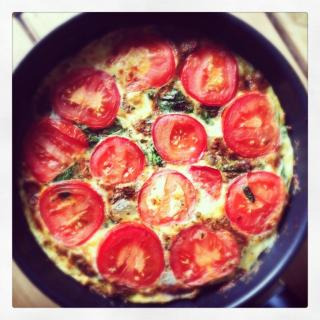tomato: (225, 168, 290, 244), (36, 178, 106, 248), (51, 64, 120, 131), (171, 221, 239, 288), (22, 116, 86, 186), (95, 220, 160, 288), (220, 91, 281, 158), (178, 44, 240, 109), (104, 38, 178, 90), (136, 169, 198, 225), (152, 112, 210, 166), (89, 136, 149, 184)
